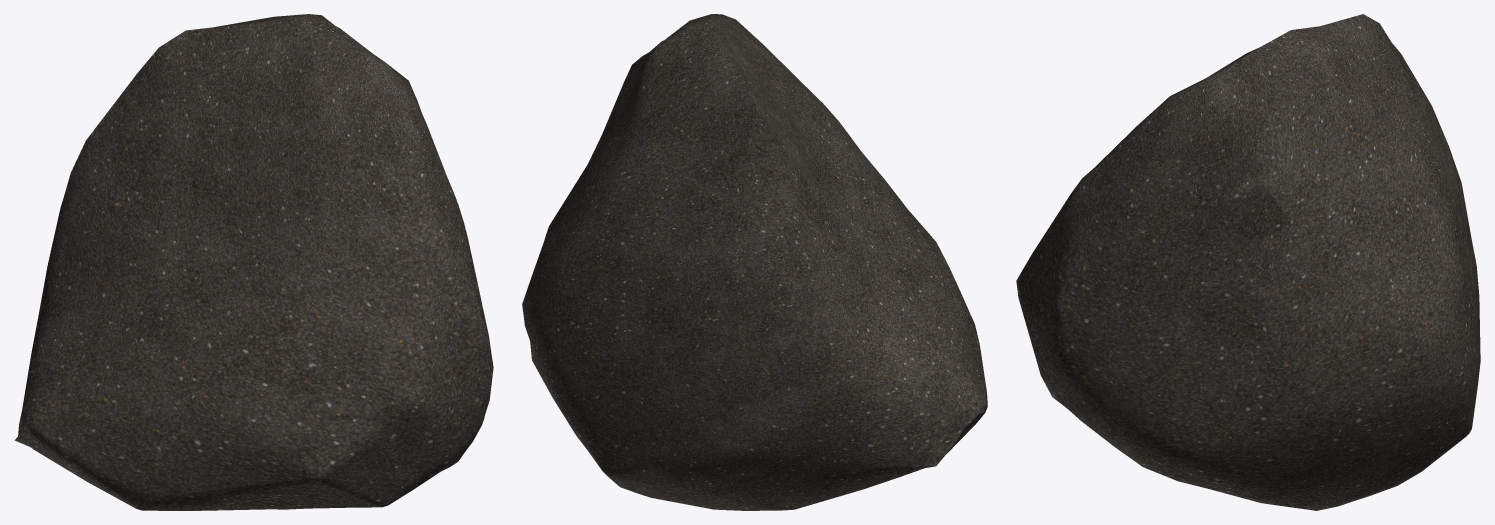
Rendered from rock_2.fbx.
3 renders of one model, left to right at view 1: azimuth 30°, elevation 25°; view 2: azimuth 150°, elevation 25°; view 3: azimuth 270°, elevation 25°, orthographic. The views are drawn at different scales.
Parts seen in each view (by area): view 1: pPlatonic14; view 2: pPlatonic14; view 3: pPlatonic14.
Part boxes in pixels (x1,y1,x2,y2): pPlatonic14: (14, 14, 493, 510); pPlatonic14: (522, 14, 987, 510); pPlatonic14: (1016, 14, 1480, 510).
Bounding box in the file's own units: 3.05 × 3.25 × 2.94.
1 material, 1 textured.
